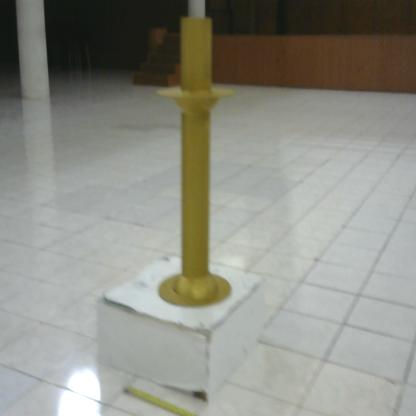pole: (153, 10, 241, 314)
